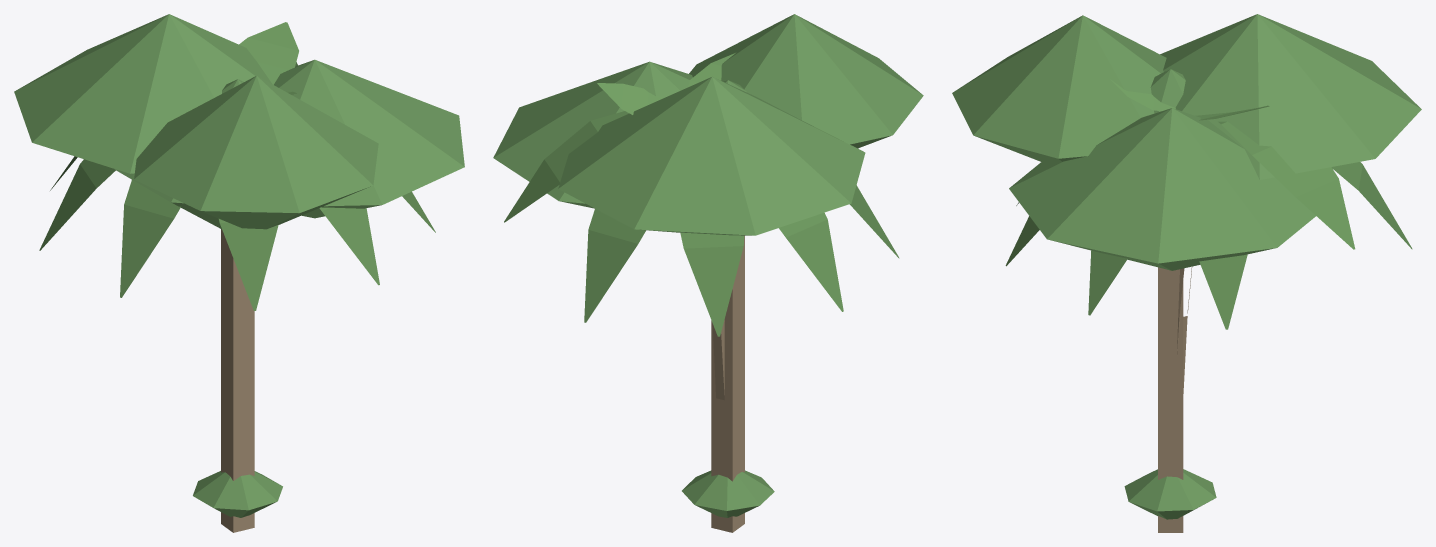
Rendered from vegetation.glb.
3 renders of one model, left to right at view 1: azimuth 30°, elevation 25°; view 2: azimuth 150°, elevation 25°; view 3: azimuth 270°, elevation 25°, orthographic. The views are drawn at different scales.
Visible parts, largest first — view 1: Tree, Palm, Bush; view 2: Tree, Palm, Bush; view 3: Tree, Palm, Bush.
Boxes of the visible parts, x1,y1,x2,y2 form: Tree: (14, 14, 464, 532); Palm: (39, 22, 435, 310); Bush: (193, 471, 282, 517); Tree: (493, 14, 923, 532); Palm: (504, 53, 899, 400); Bush: (682, 470, 774, 517); Tree: (952, 14, 1421, 532); Palm: (1005, 79, 1412, 393); Bush: (1124, 469, 1216, 519).
Bounding box in the file's own units: 7.82 × 9.58 × 8.15.
